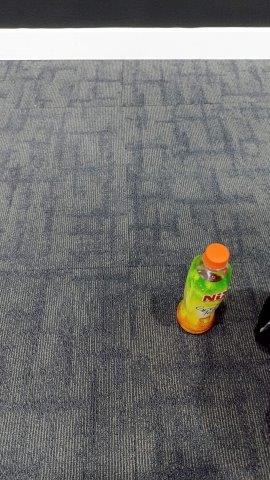botolplastik: (177, 243, 231, 334)
